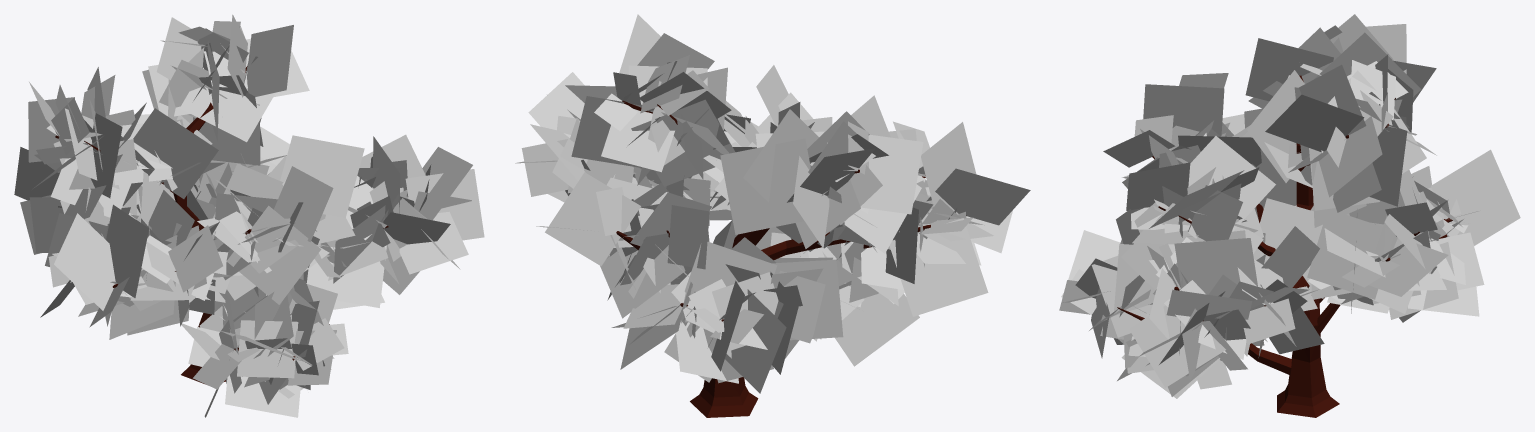
File: WizardTree.glb
The picture shows the model from 3 angles, left to right: view 1: azimuth 30°, elevation 25°; view 2: azimuth 150°, elevation 25°; view 3: azimuth 270°, elevation 25°; orthographic projection. The views are drawn at different scales.
Parts seen in each view (by area): view 1: Asset3DLoader.sceneRoot; view 2: Asset3DLoader.sceneRoot; view 3: Asset3DLoader.sceneRoot.
Boxes of the visible parts, left/top/right/bottom form: Asset3DLoader.sceneRoot: left=14, top=14, right=484, bottom=417; Asset3DLoader.sceneRoot: left=515, top=14, right=1030, bottom=417; Asset3DLoader.sceneRoot: left=1059, top=14, right=1520, bottom=417.
Size of the model in its own units: 24.05 by 18.1 by 21.09.
